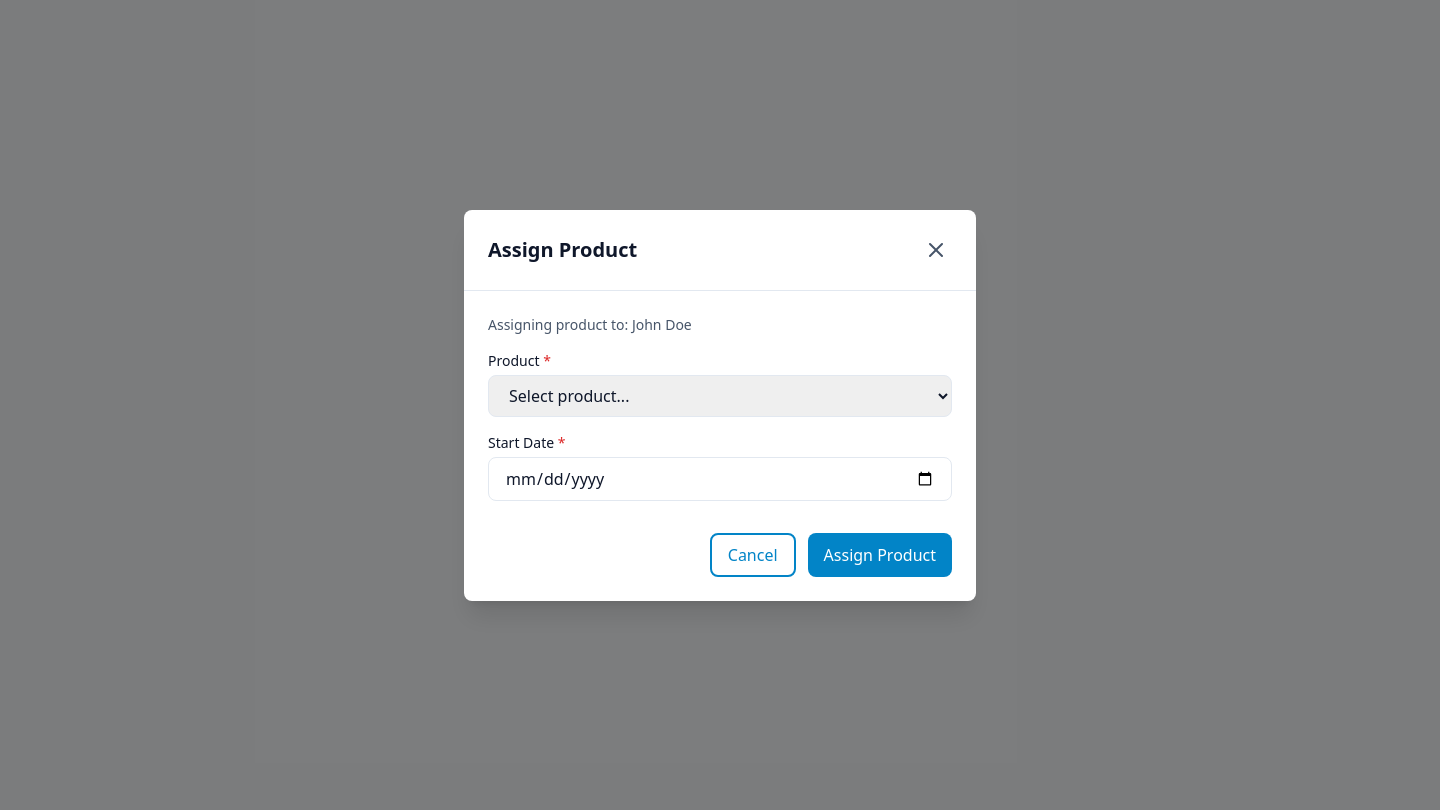
Test case: AssignProductModal › Form Validation › shows validation error if no start date selected
Select "Premium Support (12 months)" in the dropdown labelled "Product *" at point(720, 396), box [488,374,952,416]
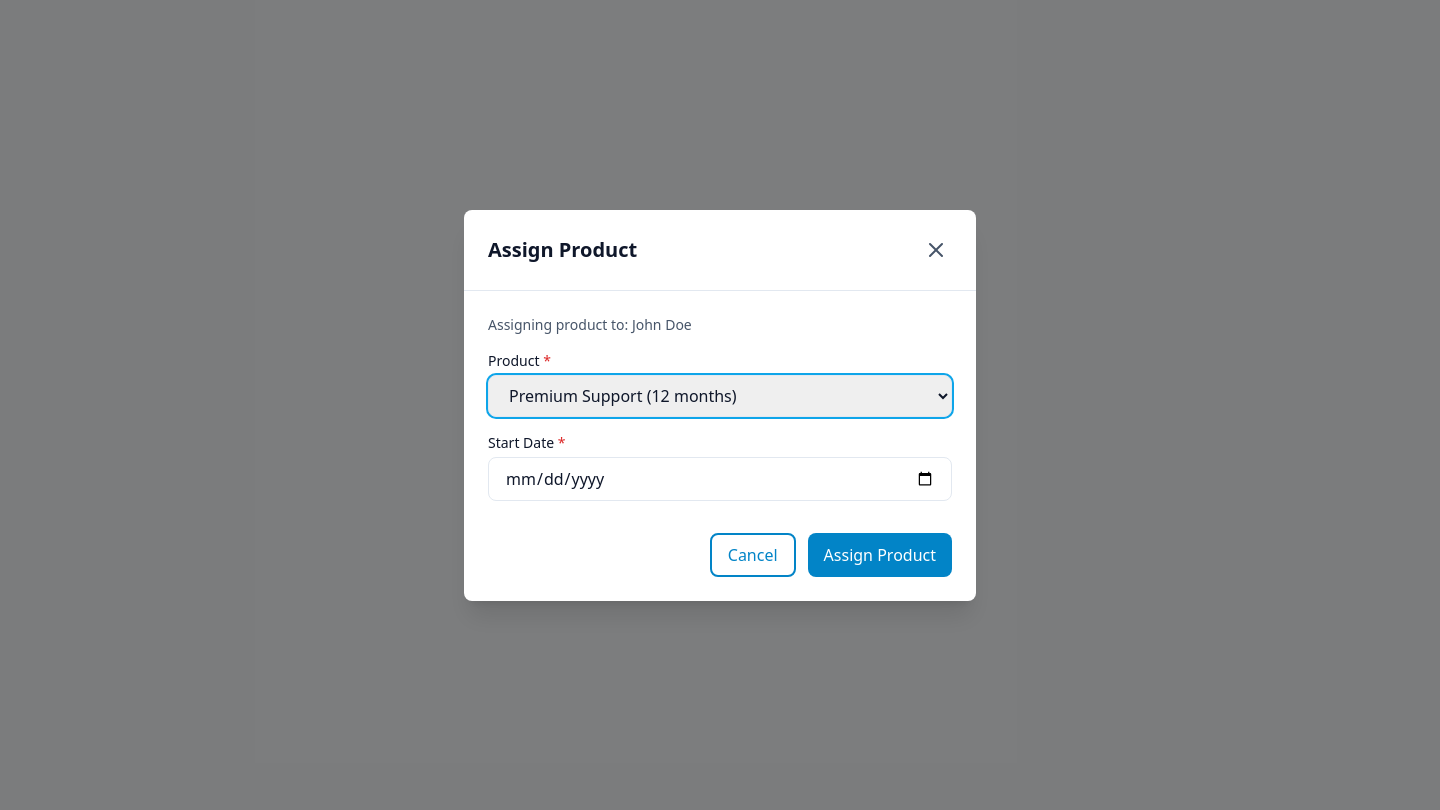
Click the button "Assign Product" at point(880, 554), box [808,532,952,576]
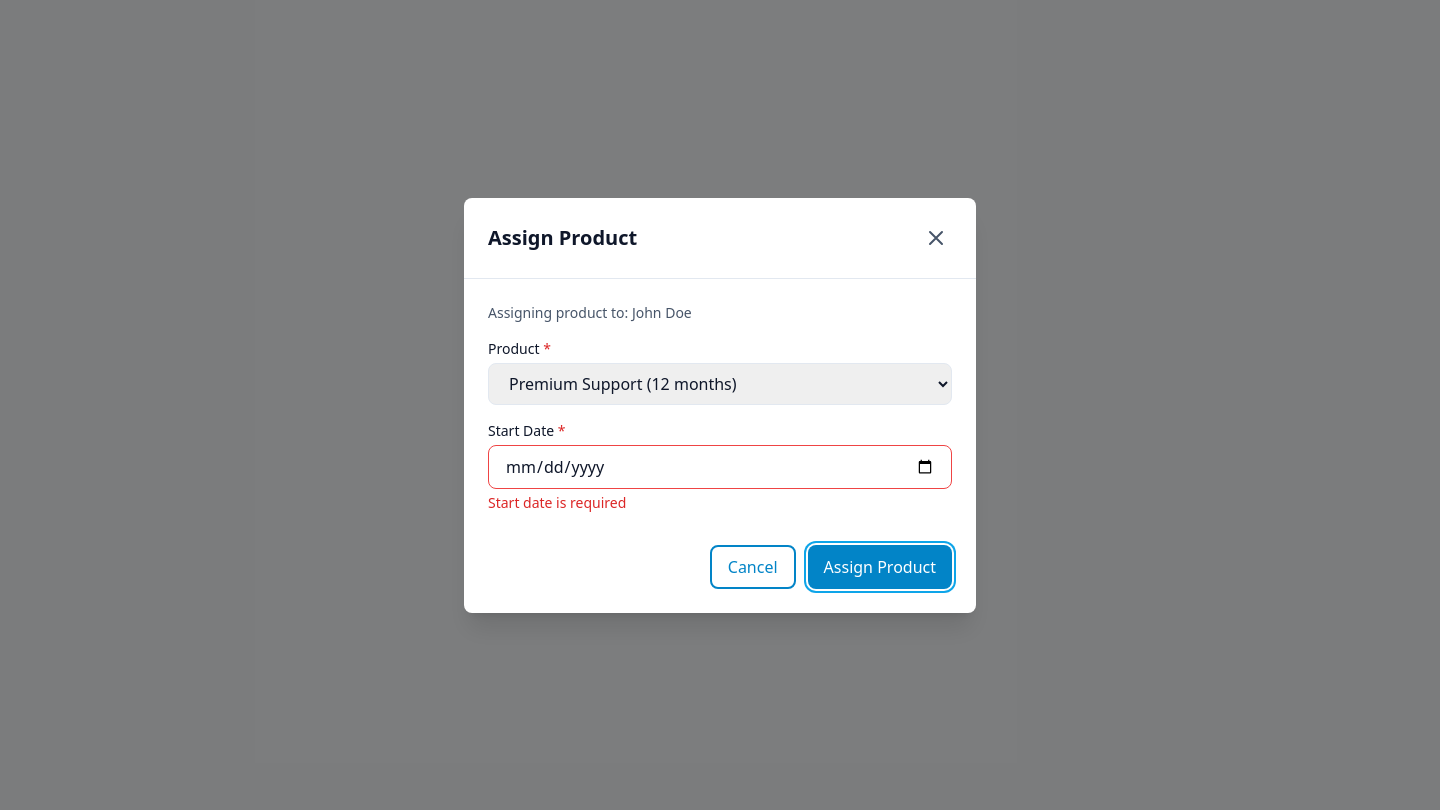
expect the text "Start date is required" is shown: met, box [488,492,626,512]
